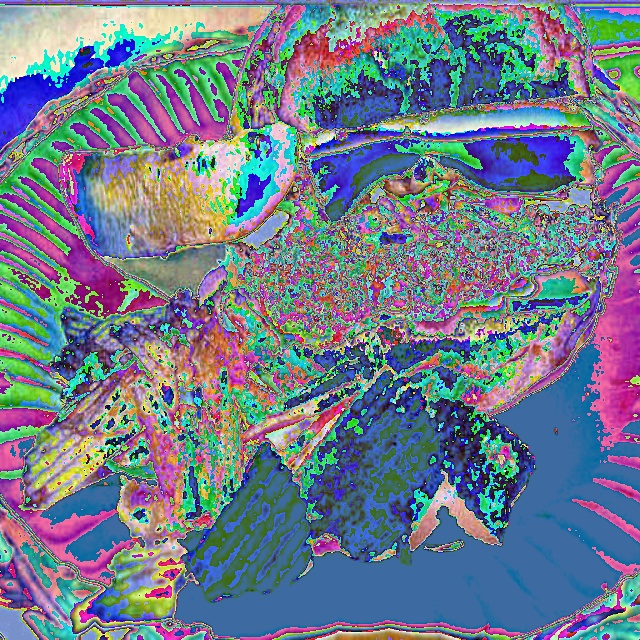background: (23, 4, 622, 638)
